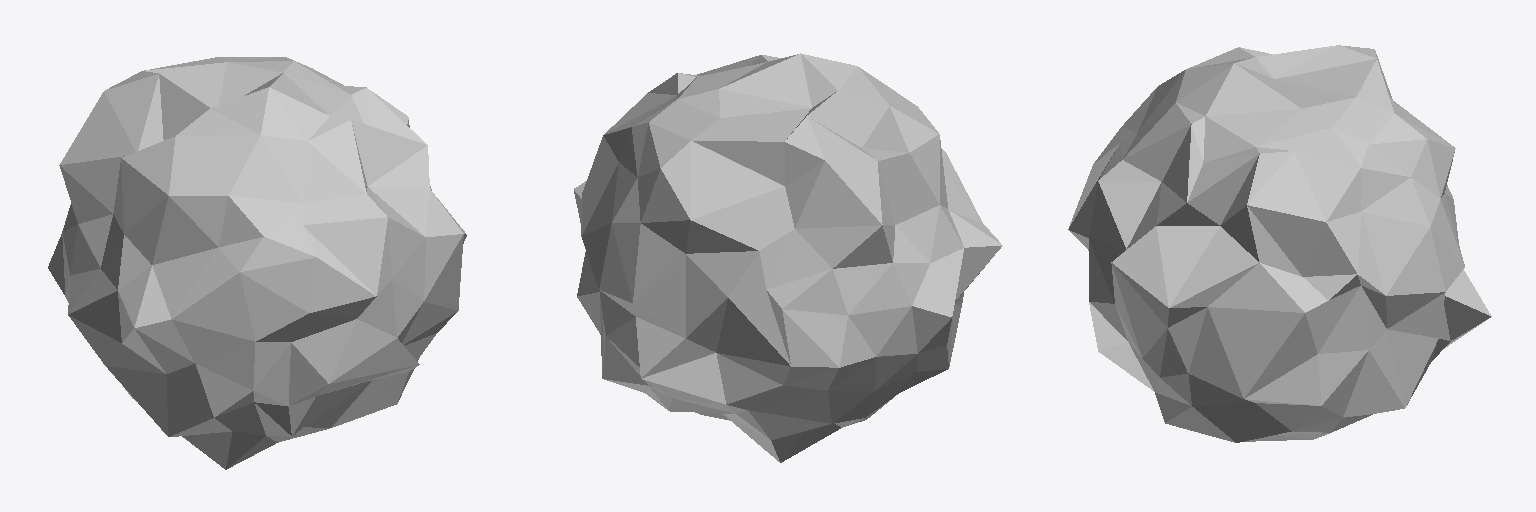
The model's file is fire_000033.obj.
3 renders of one model, left to right at view 1: azimuth 30°, elevation 25°; view 2: azimuth 150°, elevation 25°; view 3: azimuth 270°, elevation 25°, orthographic.
Visible parts, largest first — view 1: Icosphere; view 2: Icosphere; view 3: Icosphere.
Boxes of the visible parts, box(x1,y1,x2,y2) form: Icosphere: box(48, 57, 466, 469); Icosphere: box(574, 53, 1002, 462); Icosphere: box(1068, 45, 1491, 442).
Bounding box in the file's own units: 1.21 × 1.16 × 1.19.